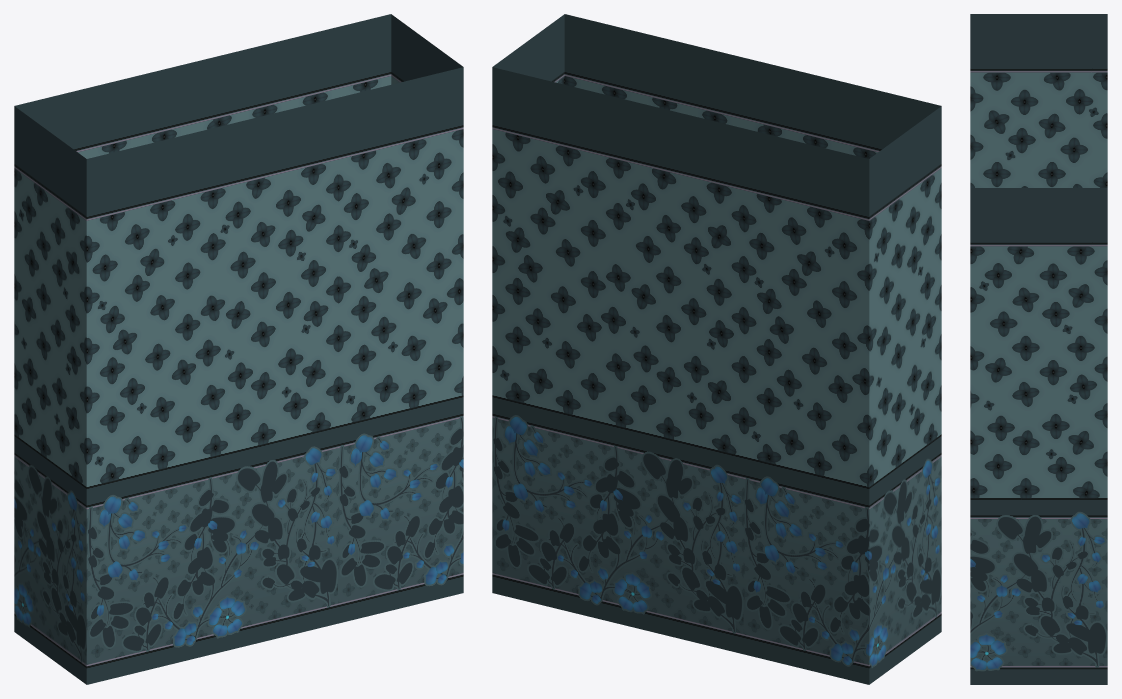
Rendered from 000_001_wall_blue.glb.
3 renders of one model, left to right at view 1: azimuth 30°, elevation 25°; view 2: azimuth 150°, elevation 25°; view 3: azimuth 270°, elevation 25°, orthographic. The views are drawn at different scales.
Parts seen in each view (by area): view 1: 000_001_wall_blue; view 2: 000_001_wall_blue; view 3: 000_001_wall_blue.
Boxes of the visible parts, x1,y1,x2,y2 form: 000_001_wall_blue: [14, 14, 463, 684]; 000_001_wall_blue: [492, 14, 941, 684]; 000_001_wall_blue: [970, 14, 1107, 684].
Size of the model in its own units: 2.25 by 3 by 0.75.
Materials: 1 (1 with a texture image).
